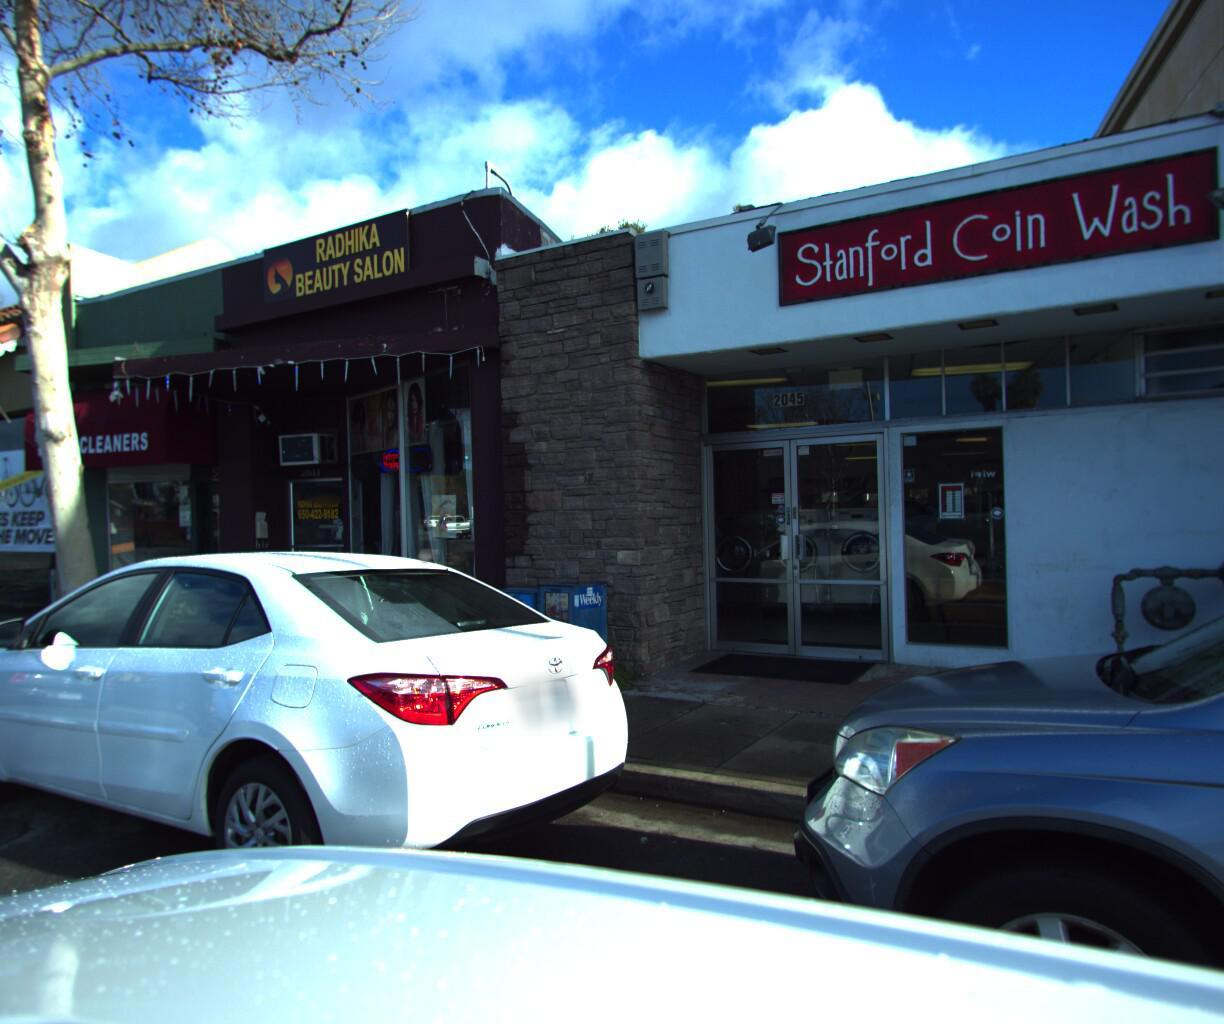car: (691, 183, 1224, 1024), (0, 529, 680, 1019)
